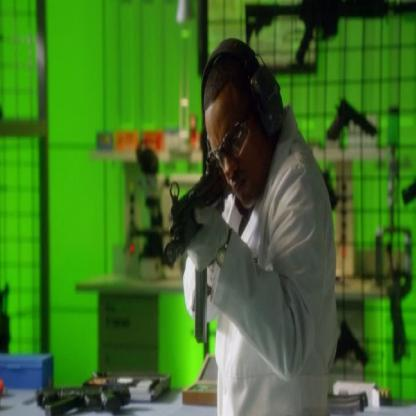Gun: (160, 143, 226, 346), (243, 0, 415, 73), (31, 382, 134, 413), (329, 92, 376, 147), (331, 311, 371, 375)
